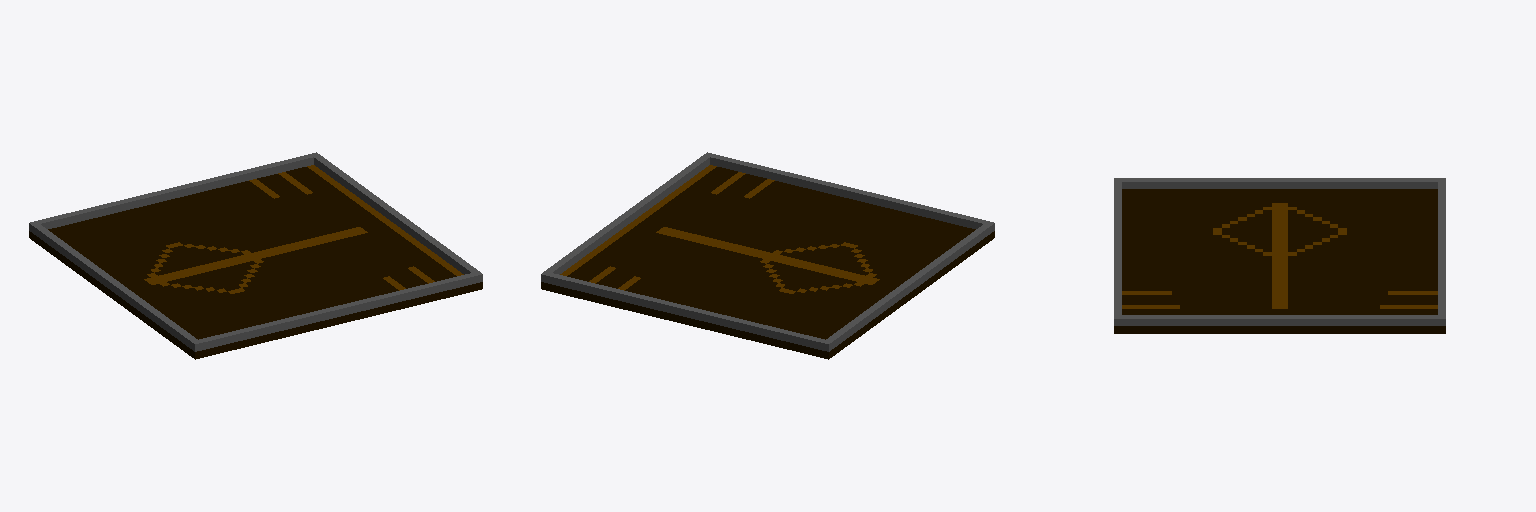
3 views of the same model, side by side, from view 1: azimuth 30°, elevation 25°; view 2: azimuth 150°, elevation 25°; view 3: azimuth 270°, elevation 25° (orthographic).
Visible parts, largest first — view 1: object 1; view 2: object 1; view 3: object 1.
Boxes of the visible parts, box(x1,y1,x2,y2) form: object 1: box(29, 152, 482, 359); object 1: box(541, 152, 994, 359); object 1: box(1114, 178, 1445, 333).
Size of the model in its own units: 4 by 0.2 by 4.
Materials: 1 (1 with a texture image).